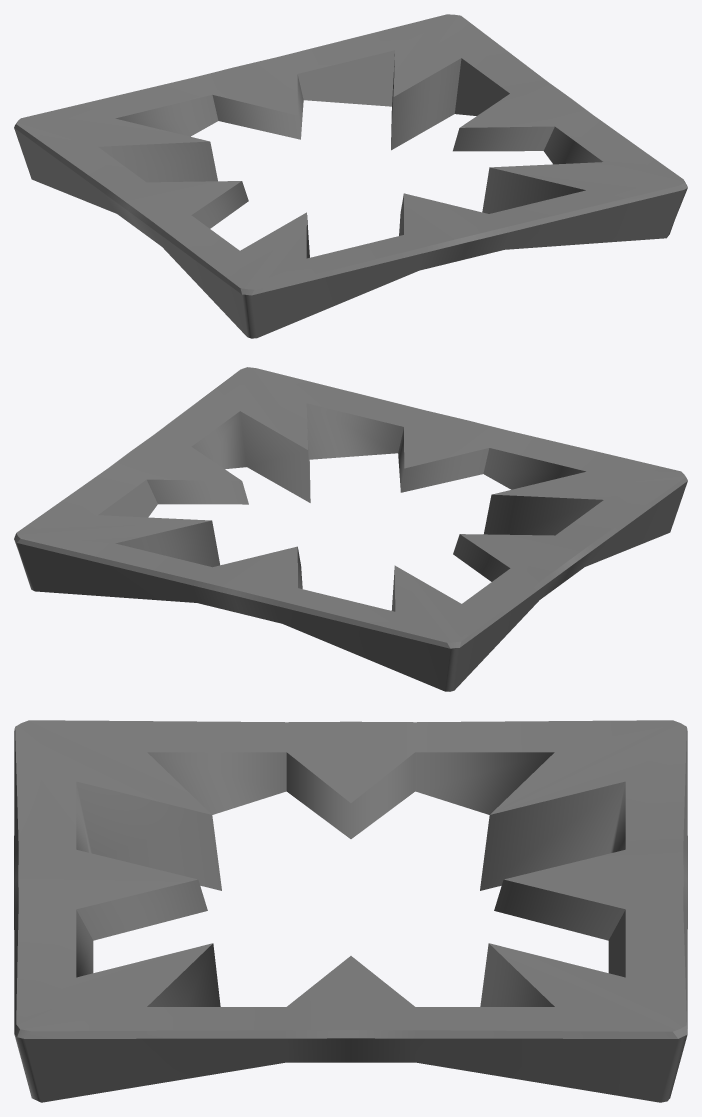
File: mesh002_Stove_Top.fbx
3 renders of one model, top to bottom at view 1: azimuth 30°, elevation 25°; view 2: azimuth 150°, elevation 25°; view 3: azimuth 270°, elevation 25°, orthographic. The views are drawn at different scales.
Parts seen in each view (by area): view 1: mesh002_Stove_Top; view 2: mesh002_Stove_Top; view 3: mesh002_Stove_Top.
Boxes of the visible parts, box(x1,y1,x2,y2) form: mesh002_Stove_Top: box(14, 14, 687, 338); mesh002_Stove_Top: box(14, 367, 687, 691); mesh002_Stove_Top: box(14, 720, 687, 1102).
Bounding box in the file's own units: 0.906 × 0.1067 × 0.826.
